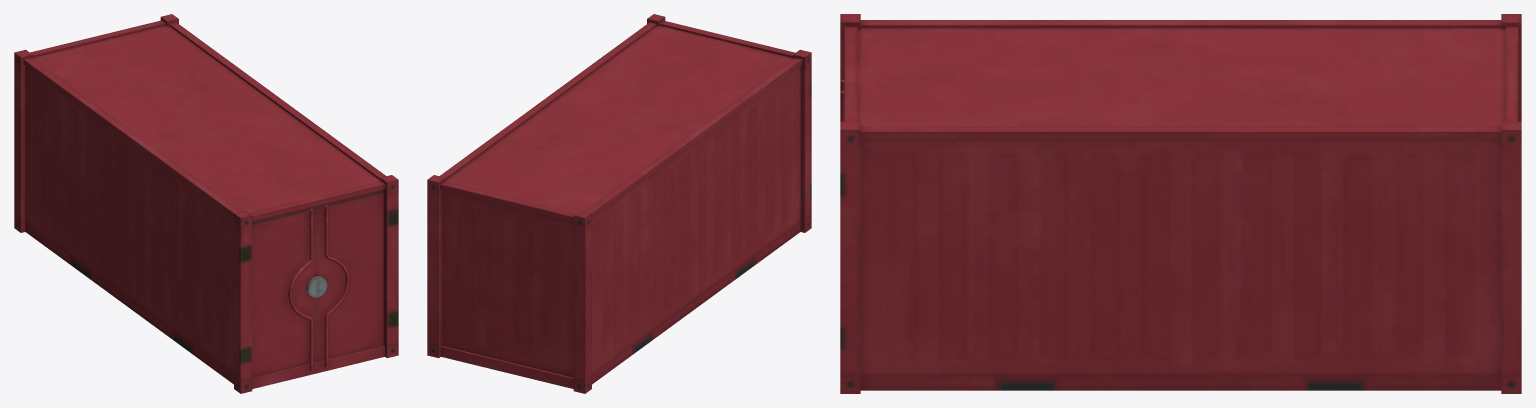
File: objects_un_t05container02.gltf
3 renders of one model, left to right at view 1: azimuth 30°, elevation 25°; view 2: azimuth 150°, elevation 25°; view 3: azimuth 270°, elevation 25°, orthographic. The views are drawn at different scales.
Visible parts, largest first — view 1: container1_shape:objects_un_t05container02_obj01; view 2: container1_shape:objects_un_t05container02_obj01; view 3: container1_shape:objects_un_t05container02_obj01.
Boxes of the visible parts, bbox=[...] form: container1_shape:objects_un_t05container02_obj01: bbox=[14, 14, 398, 393]; container1_shape:objects_un_t05container02_obj01: bbox=[427, 14, 811, 393]; container1_shape:objects_un_t05container02_obj01: bbox=[840, 14, 1521, 393].
Size of what is drawn, in the model's own units: 2.44 by 2.59 by 6.06.
1 material, 1 textured.
